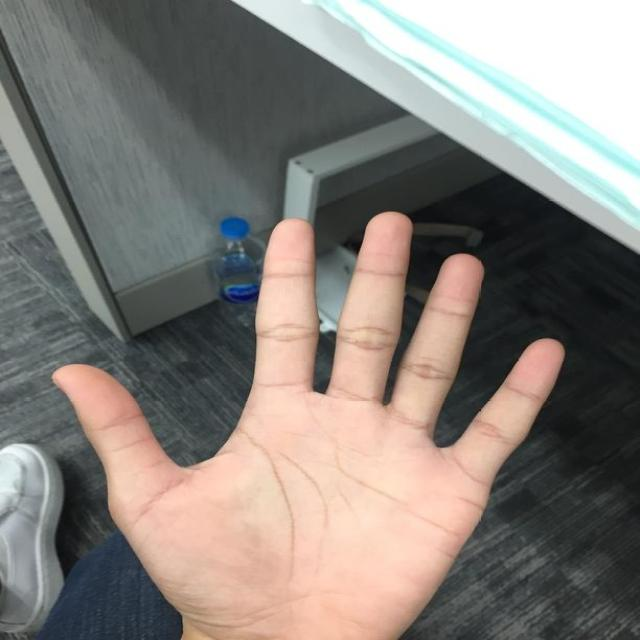hand: (49, 209, 568, 640)
